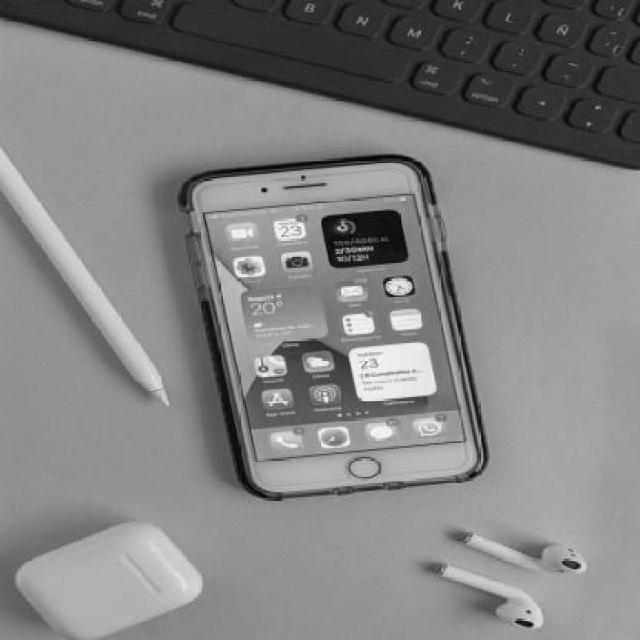fake: (172, 156, 490, 493)
